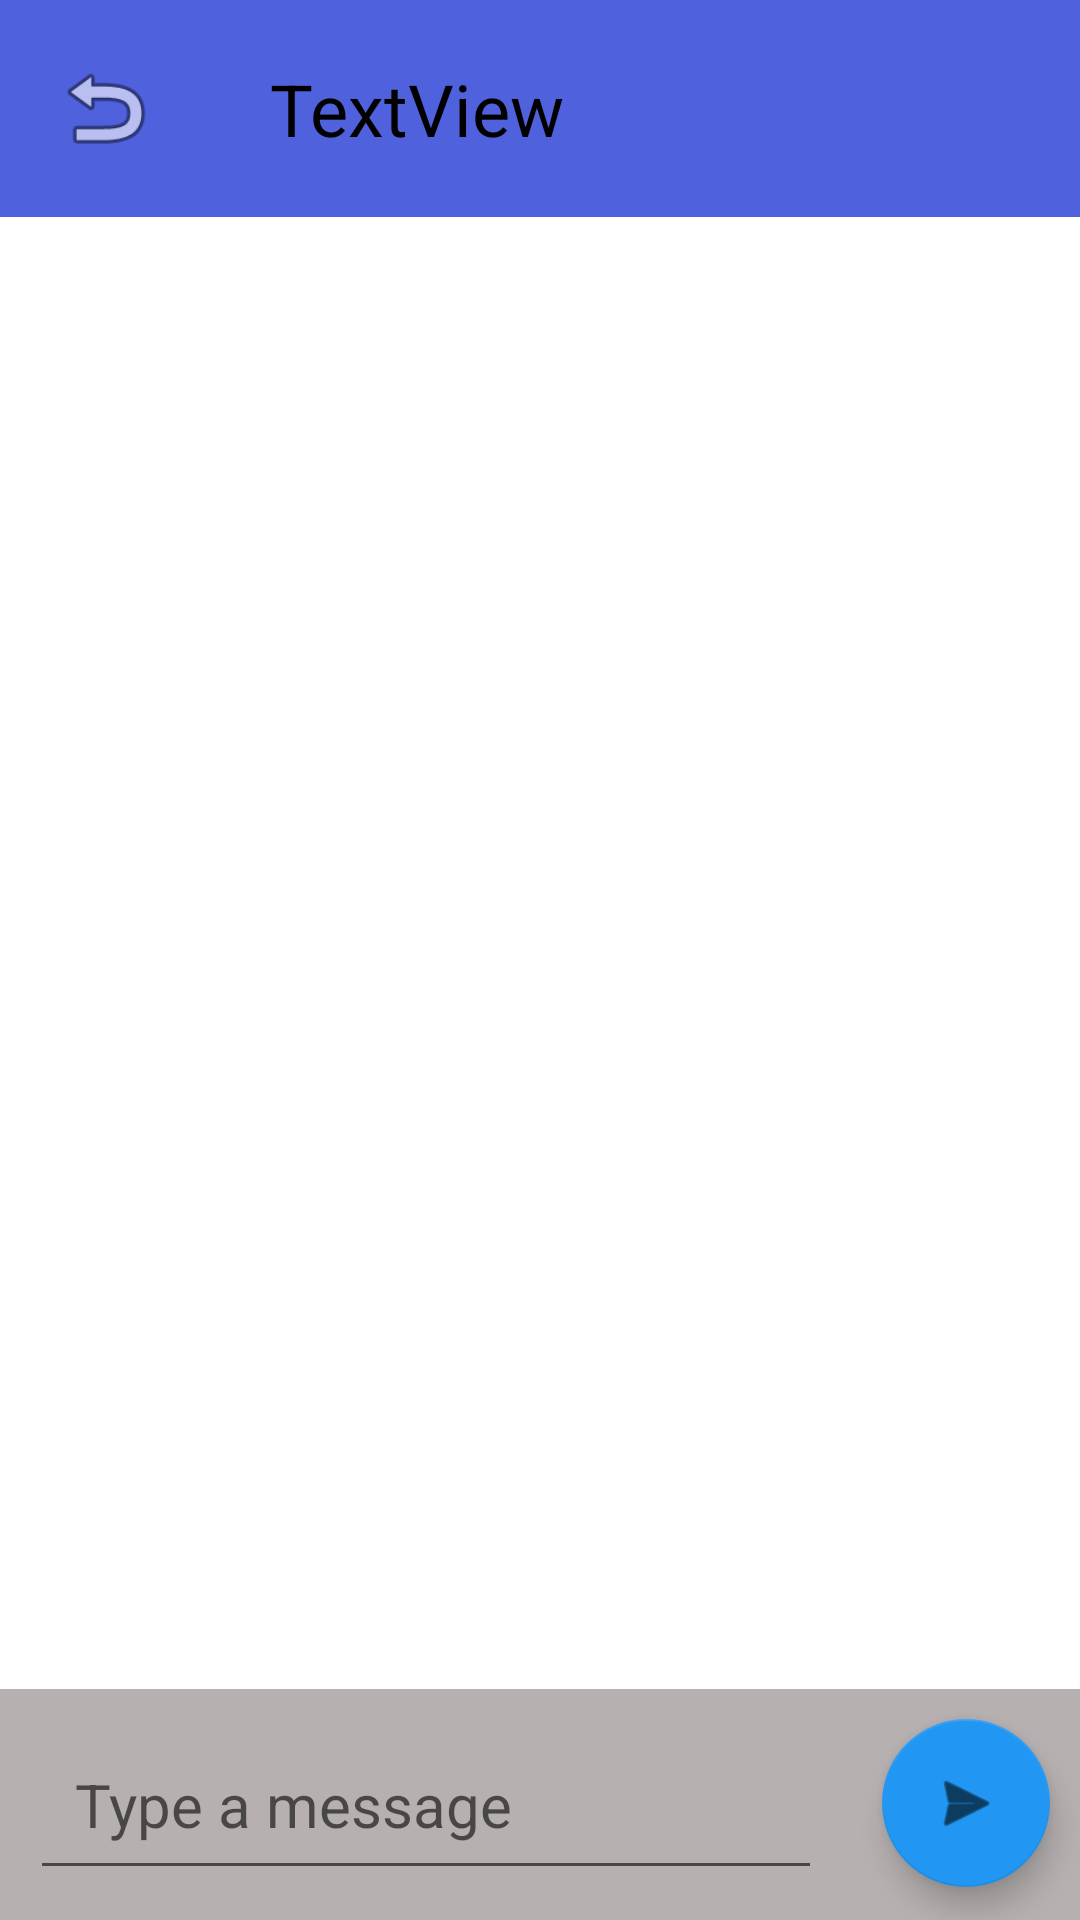

Named icons in this screenshot (1080 x 1920) and their centers, (x,y):
revert: (106,109)
send: (966,1803)
